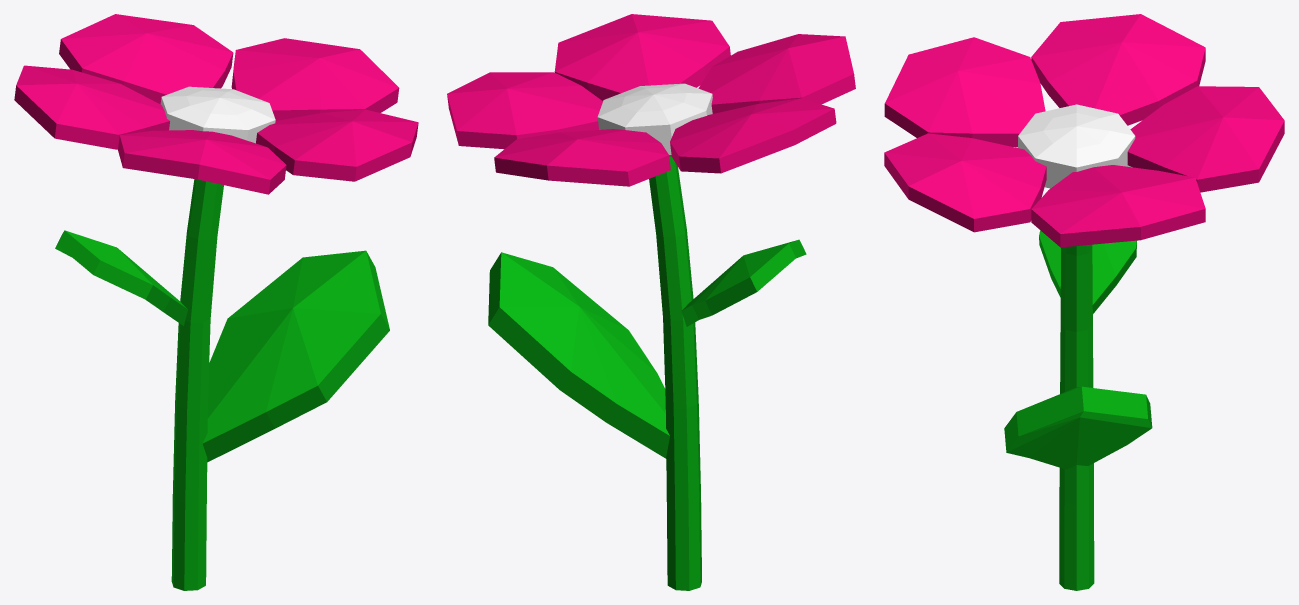
The model's file is flower-12.glb.
The picture shows the model from 3 angles, left to right: view 1: azimuth 30°, elevation 25°; view 2: azimuth 150°, elevation 25°; view 3: azimuth 270°, elevation 25°; orthographic projection.
Visible parts, largest first — view 1: Low Poly Flower; view 2: Low Poly Flower; view 3: Low Poly Flower.
Boxes of the visible parts, box(x1,y1,x2,y2) form: Low Poly Flower: box(14, 14, 418, 590); Low Poly Flower: box(447, 14, 855, 590); Low Poly Flower: box(884, 14, 1284, 590).
Bounding box in the file's own units: 0.3777 × 0.5303 × 0.3832.
